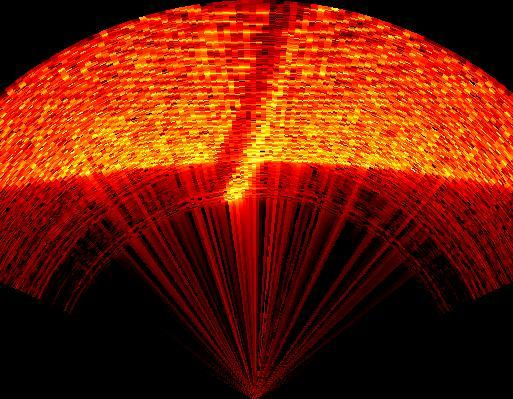pipe: (211, 3, 321, 203)
